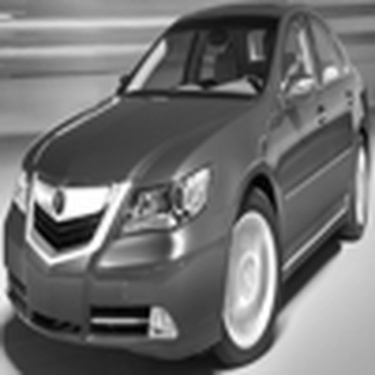car: (8, 3, 366, 344)
